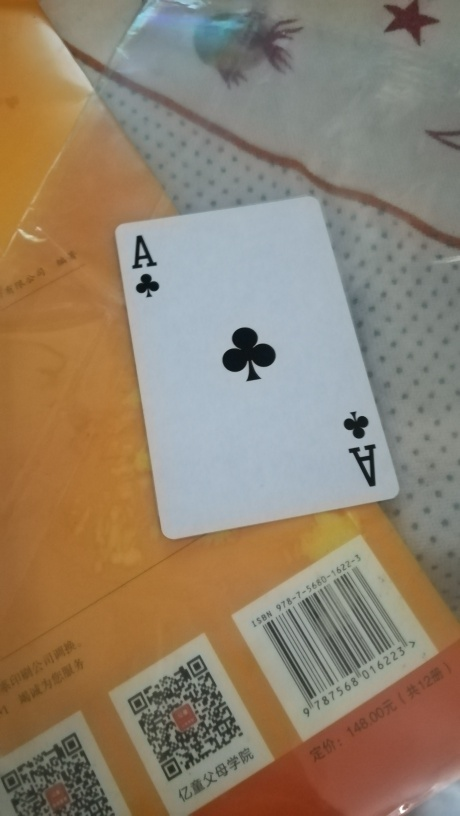mh a: (110, 193, 404, 540)
